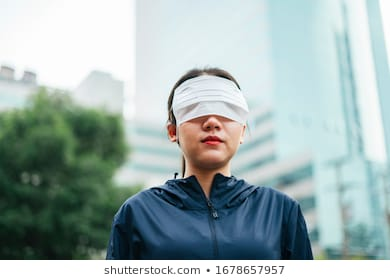mask_weared_incorrect: (181, 86, 240, 162)
